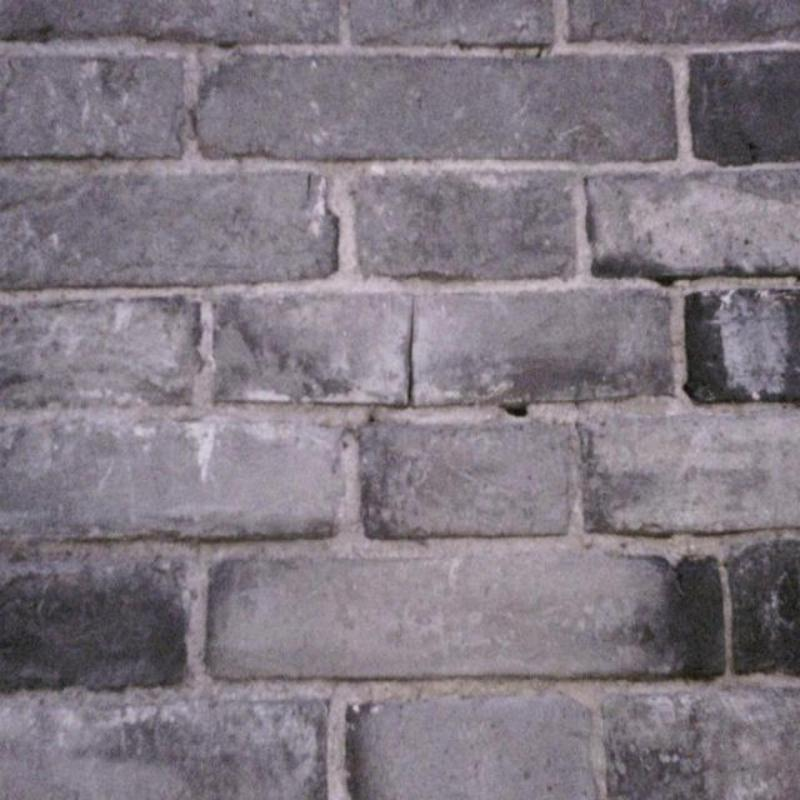crack: (408, 296, 414, 402), (501, 405, 528, 416), (655, 276, 674, 285)
